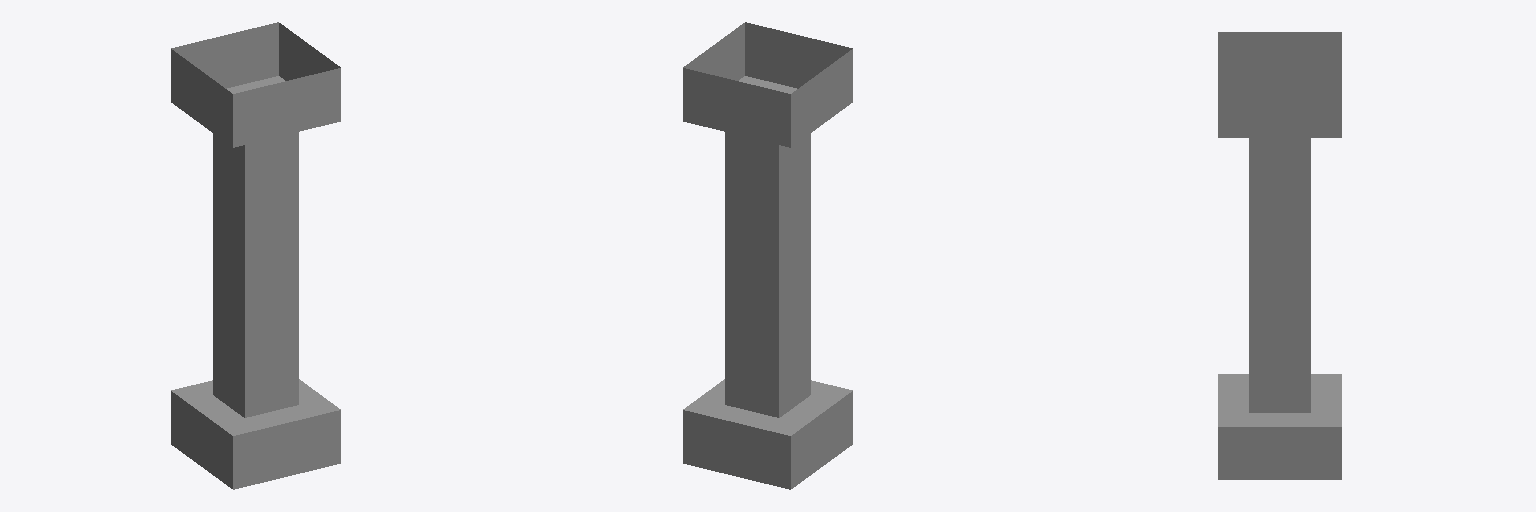
Rendered from hyperdoric_column.obj.
3 views of the same model, side by side, from view 1: azimuth 30°, elevation 25°; view 2: azimuth 150°, elevation 25°; view 3: azimuth 270°, elevation 25° (orthographic).
Parts seen in each view (by area): view 1: Cube; view 2: Cube; view 3: Cube.
Part boxes in pixels (x1,y1,x2,y2): Cube: (171,22,340,489); Cube: (683,22,852,489); Cube: (1218,32,1341,479).
Size of the model in its own units: 2 by 7 by 2.